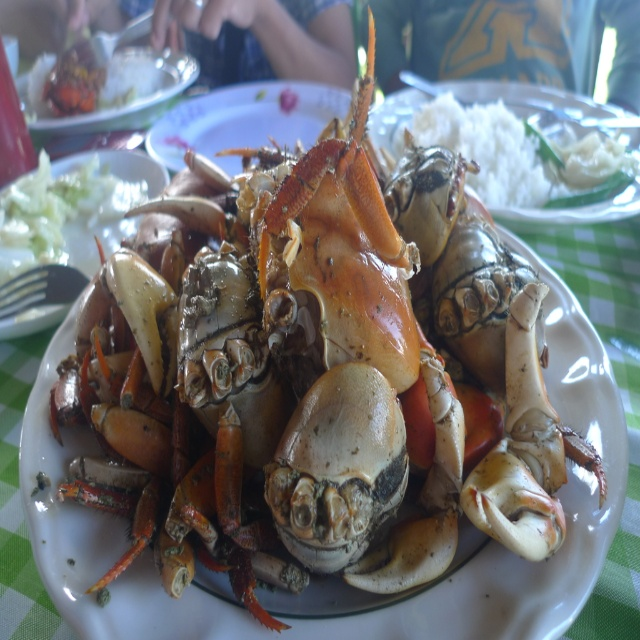Crab: (48, 5, 607, 636)
